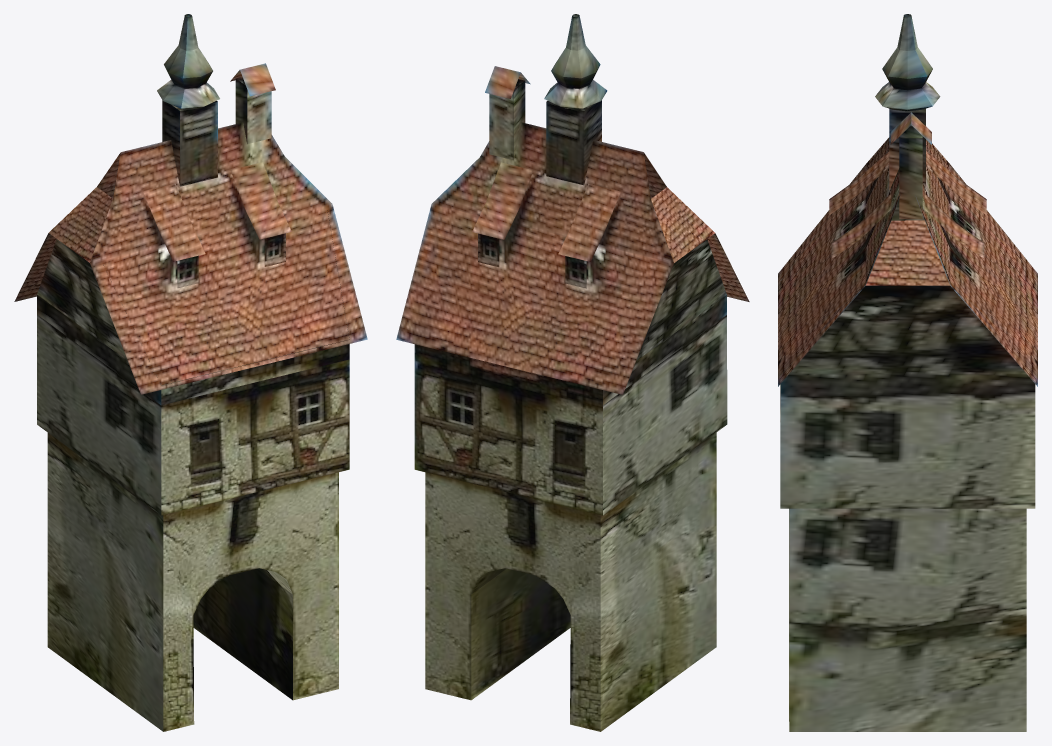
3 views of the same model, side by side, from view 1: azimuth 30°, elevation 25°; view 2: azimuth 150°, elevation 25°; view 3: azimuth 270°, elevation 25° (orthographic). The views are drawn at different scales.
Parts seen in each view (by area): view 1: t3; view 2: t3; view 3: t3.
Part boxes in pixels (x1=…): t3: x1=14, y1=14, x2=367, y2=731; t3: x1=396, y1=14, x2=749, y2=731; t3: x1=778, y1=14, x2=1037, y2=731.
Bounding box in the file's own units: 1.74 × 4.48 × 1.57.
Materials: 1 (1 with a texture image).
